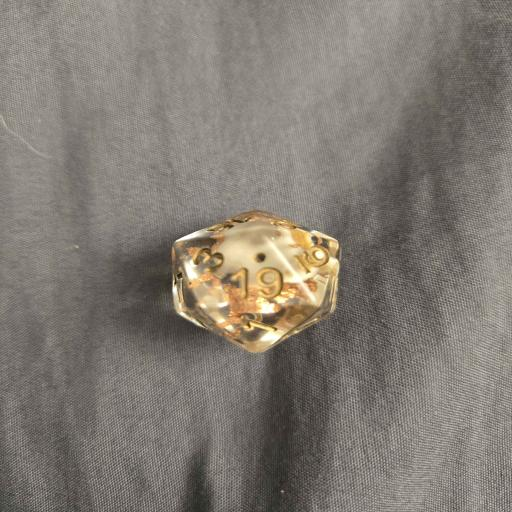twenty sided dice: (170, 209, 340, 353)
